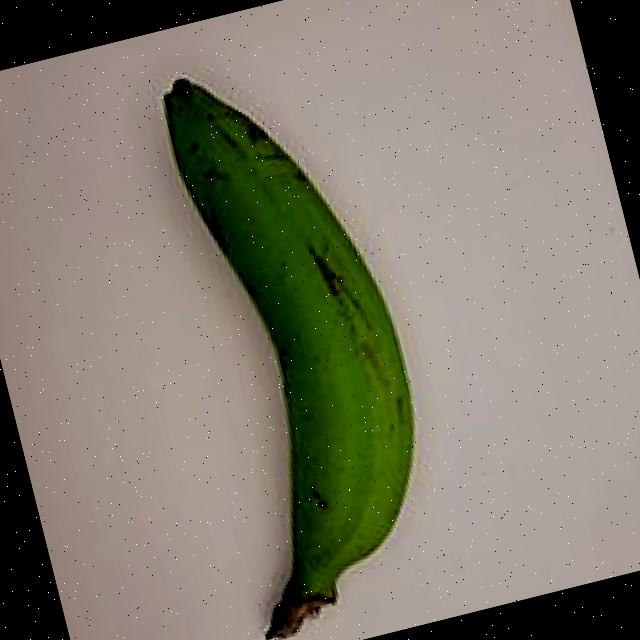Raw: (96, 17, 485, 640)
